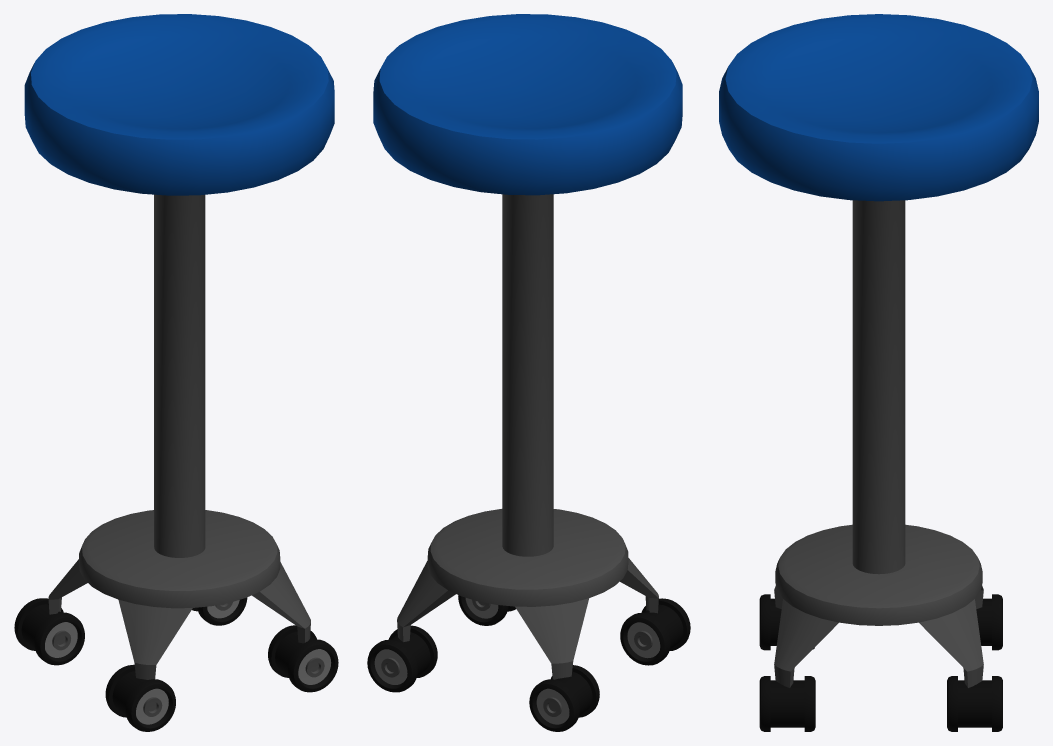
File: rolling_chair.glb
The picture shows the model from 3 angles, left to right: view 1: azimuth 30°, elevation 25°; view 2: azimuth 150°, elevation 25°; view 3: azimuth 270°, elevation 25°; orthographic projection. The views are drawn at different scales.
Visible parts, largest first — view 1: Cylinder.046, Cylinder.047; view 2: Cylinder.046, Cylinder.047; view 3: Cylinder.046, Cylinder.047.
Part boxes in pixels (box(x1,y1,x2,y2)): Cylinder.046: box(24, 14, 334, 679); Cylinder.047: box(14, 597, 338, 731); Cylinder.046: box(373, 14, 682, 679); Cylinder.047: box(367, 595, 690, 731); Cylinder.046: box(719, 14, 1038, 687); Cylinder.047: box(759, 594, 1002, 731).
Bounding box in the file's own units: 0.3724 × 0.7864 × 0.3724.
2 materials, 2 textured.
